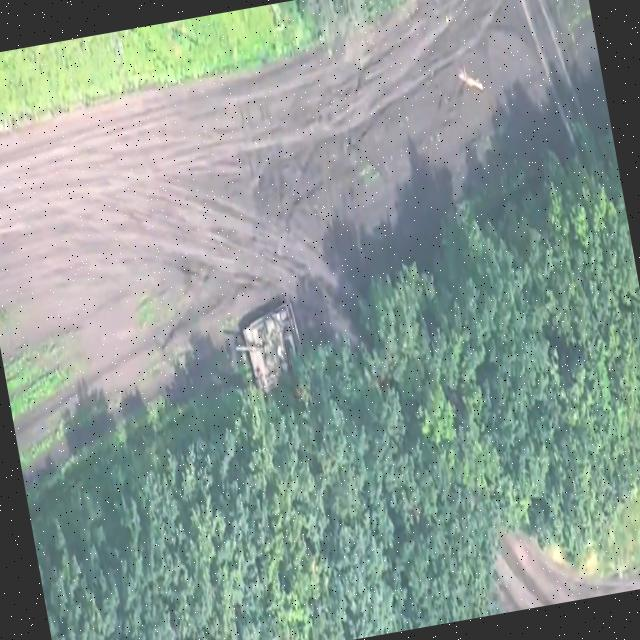MBT: (229, 299, 314, 405)
